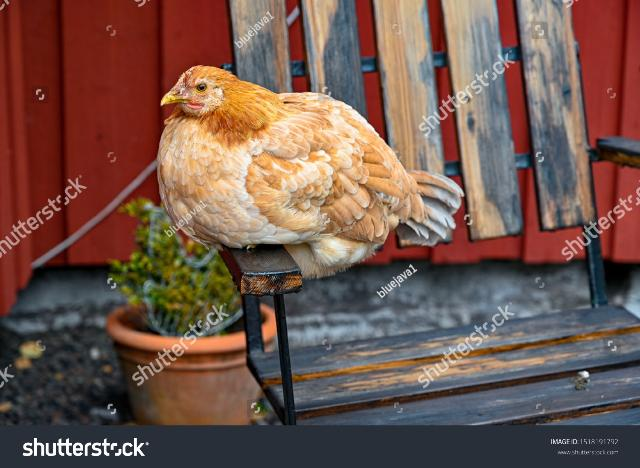Chicken: (156, 65, 468, 279)
